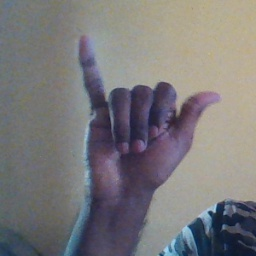J: (69, 32, 222, 183)
